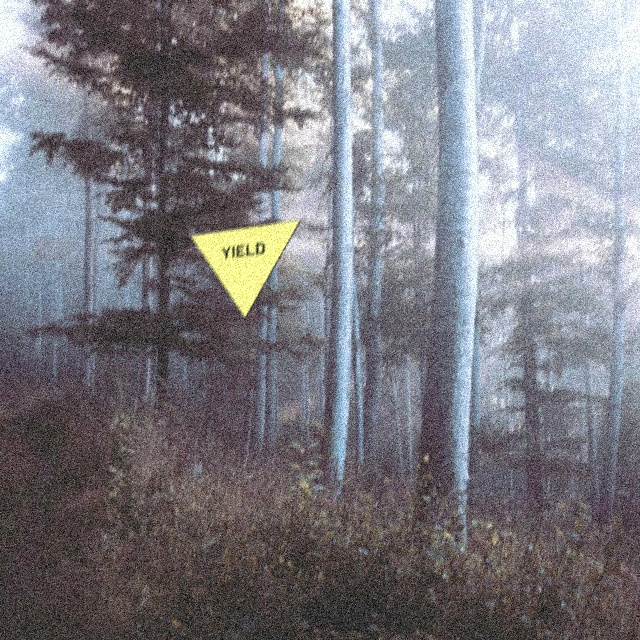YIELD: (189, 219, 301, 319)
